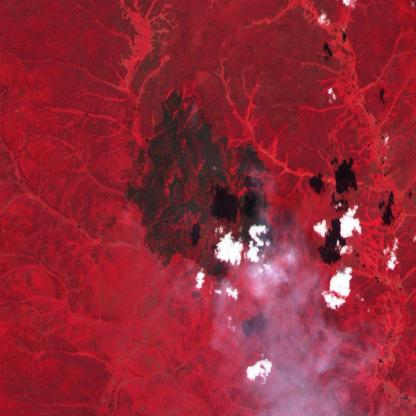fire: (191, 94, 198, 114)
